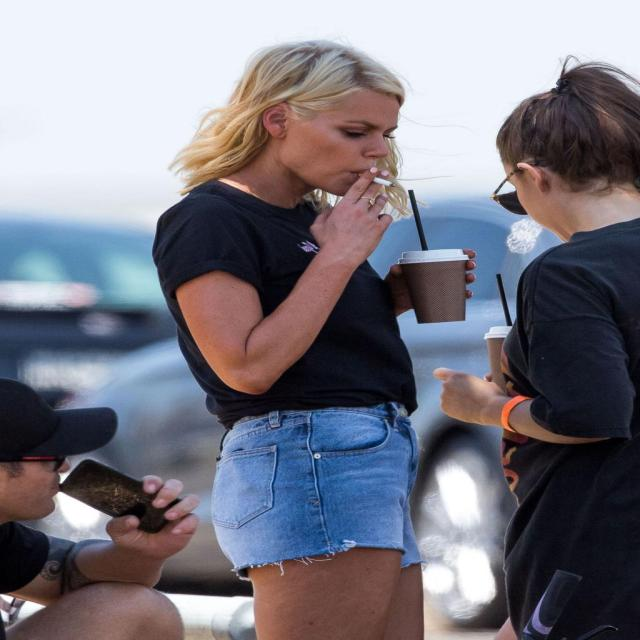smoking: (205, 33, 424, 253)
